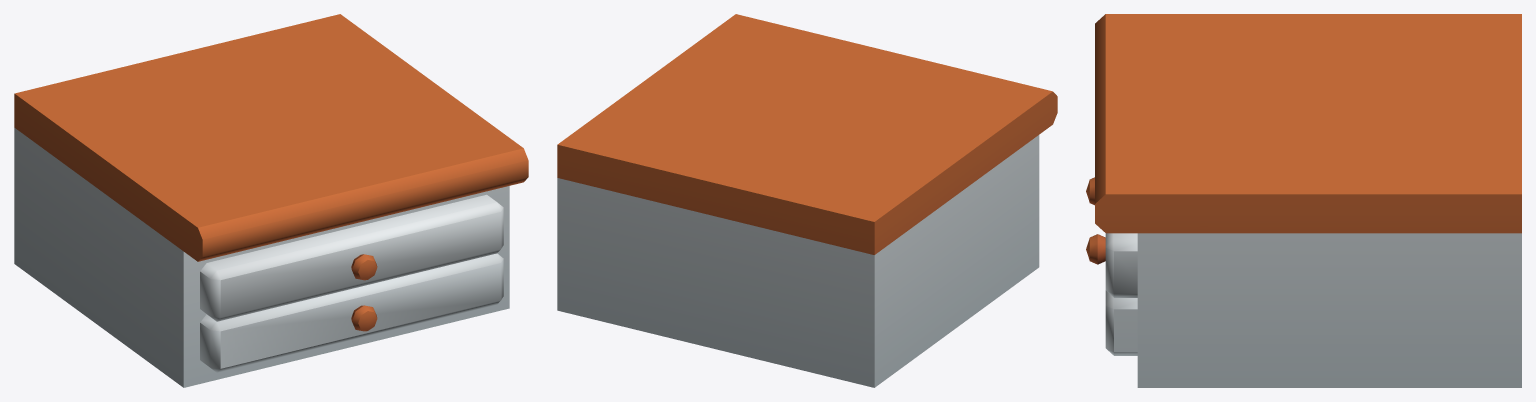
File: kitchencounter_straight_A.glb
3 views of the same model, side by side, from view 1: azimuth 30°, elevation 25°; view 2: azimuth 150°, elevation 25°; view 3: azimuth 270°, elevation 25° (orthographic). The views are drawn at different scales.
Visible parts, largest first — view 1: kitchencounter_straight_A; view 2: kitchencounter_straight_A; view 3: kitchencounter_straight_A.
Boxes of the visible parts, x1,y1,x2,y2 form: kitchencounter_straight_A: [14, 14, 528, 387]; kitchencounter_straight_A: [557, 14, 1057, 387]; kitchencounter_straight_A: [1086, 14, 1521, 387].
Size of the model in its own units: 2 by 1 by 2.04.
1 material, 1 textured.
